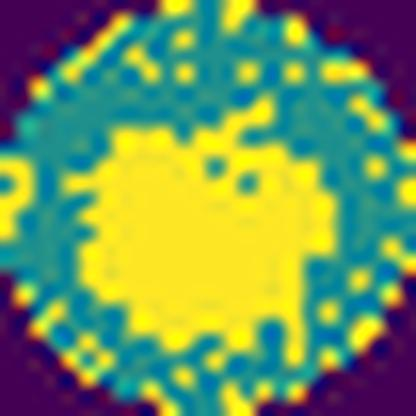Center: (76, 126, 338, 354)
